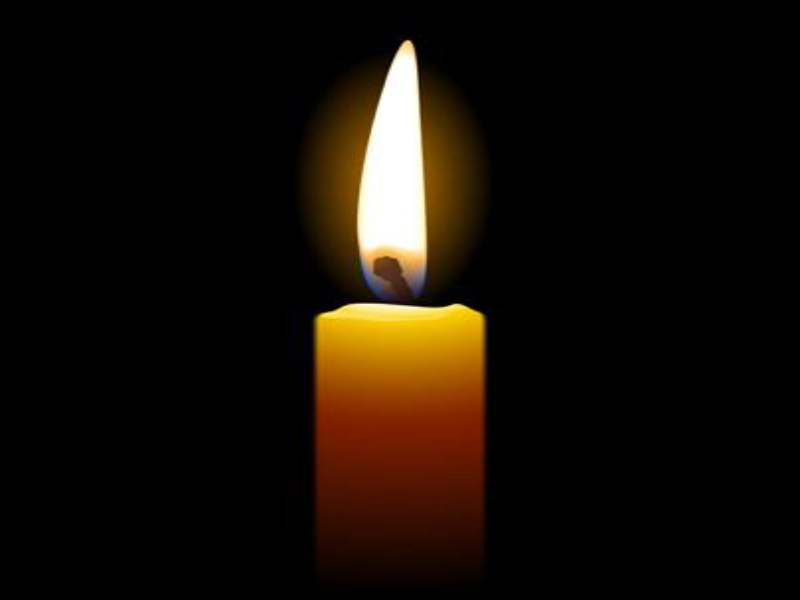fire: (356, 42, 431, 274)
